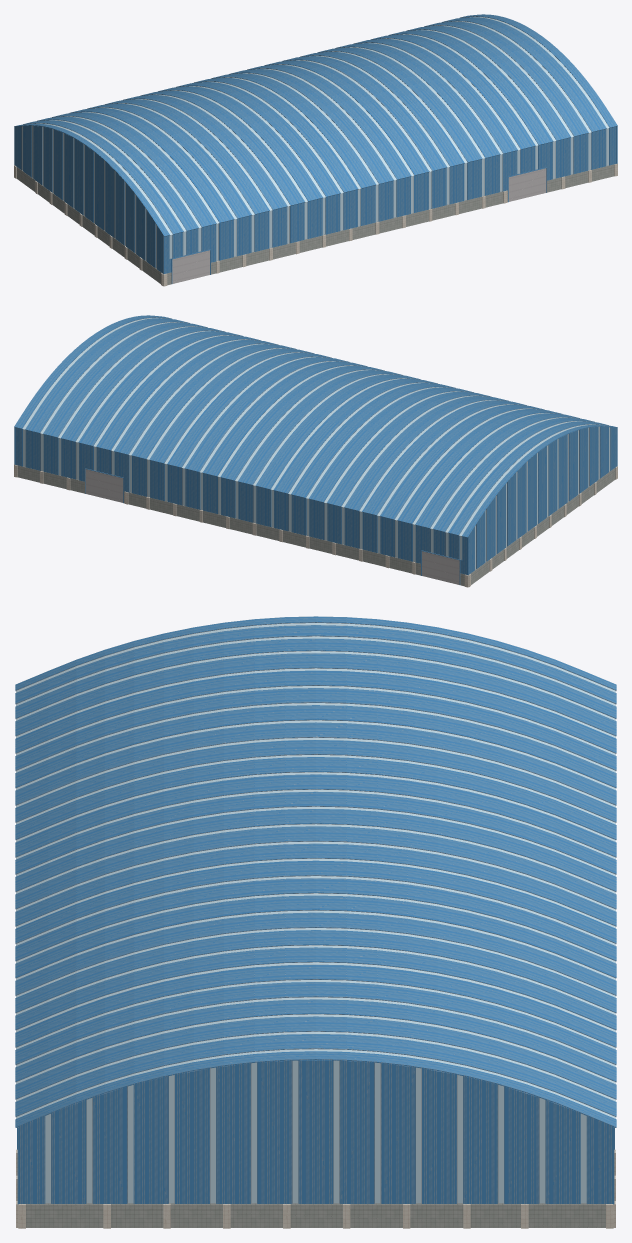
3 renders of one model, top to bottom at view 1: azimuth 30°, elevation 25°; view 2: azimuth 150°, elevation 25°; view 3: azimuth 270°, elevation 25°, orthographic. The views are drawn at different scales.
Visible parts, largest first — view 1: 厂房68; view 2: 厂房68; view 3: 厂房68.
Boxes of the visible parts, left/top/right/bottom form: 厂房68: left=14, top=14, right=617, bottom=286; 厂房68: left=14, top=315, right=617, bottom=587; 厂房68: left=15, top=616, right=616, bottom=1228.
Bounding box in the file's own units: 140 × 24.85 × 80.3.
Materials: 7 (5 with a texture image).
